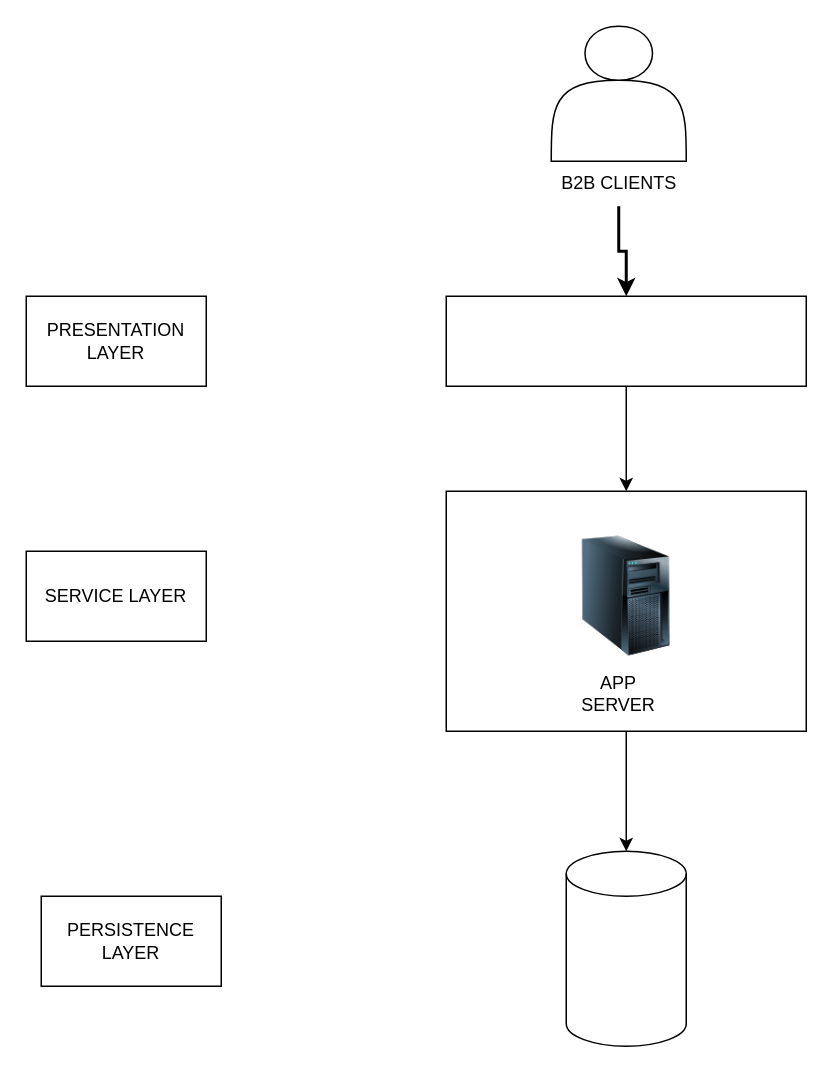
The diagram is 833 pixels wide and 1073 high, and some of its shapes have lost their labels. Here are the shapes that lost their labels. From the top down, the box of each, then its label:
(445, 295, 806, 386): UI
(565, 850, 686, 1046): DB
